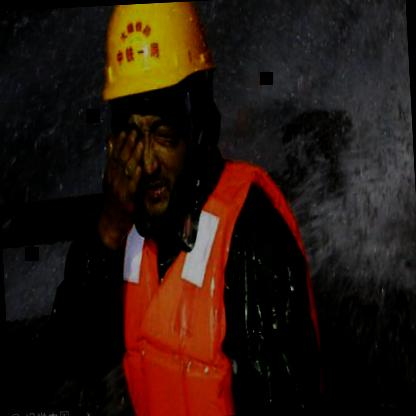helmet: (85, 0, 234, 236)
